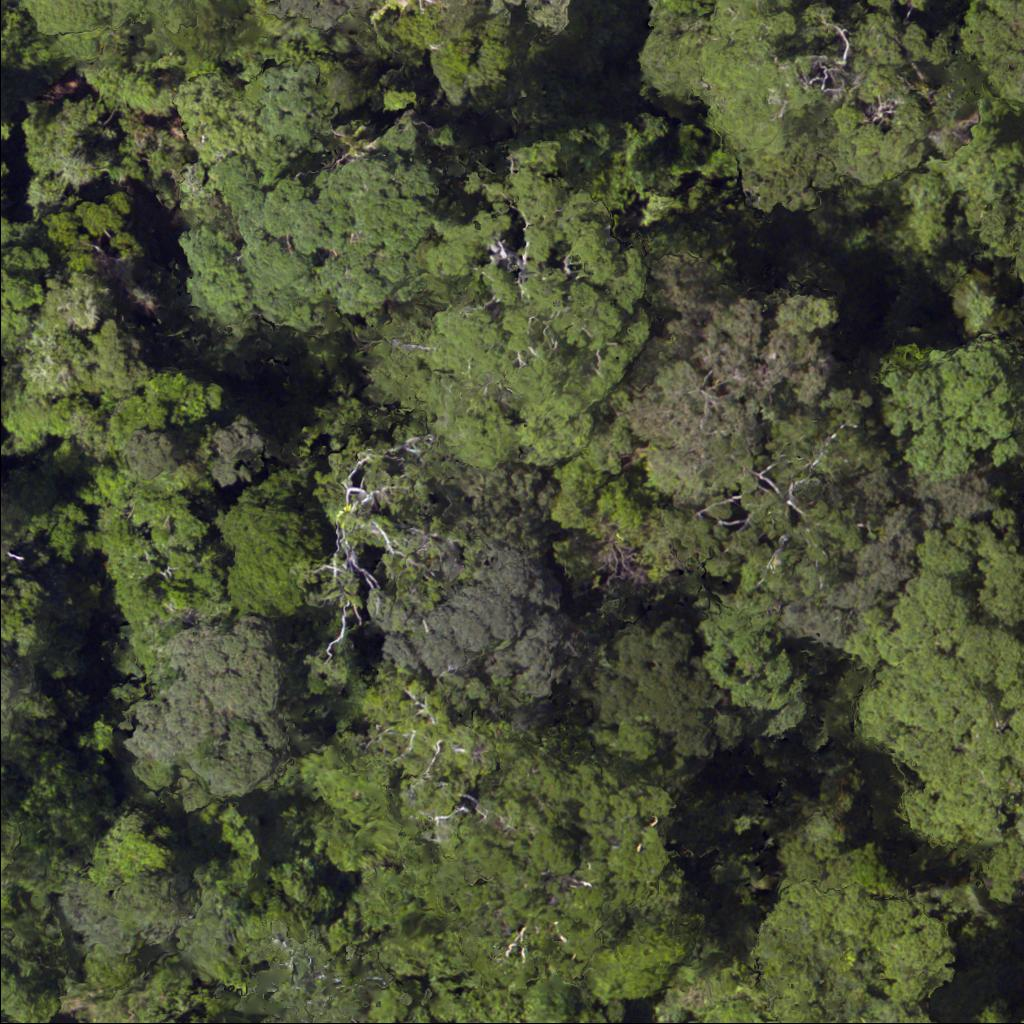crown: (435, 756, 676, 994), (854, 509, 1023, 843), (616, 253, 836, 506), (175, 120, 435, 332), (646, 0, 925, 184), (289, 428, 472, 696), (665, 386, 887, 598), (381, 537, 563, 708), (748, 883, 957, 1023), (340, 669, 500, 845), (137, 625, 276, 793), (84, 496, 224, 629), (597, 619, 722, 760), (893, 349, 1023, 470), (702, 599, 806, 738), (212, 492, 324, 615), (42, 189, 145, 273), (958, 0, 1023, 116), (88, 813, 170, 889), (16, 0, 199, 28), (418, 0, 564, 34), (210, 415, 265, 487), (123, 429, 176, 481), (0, 662, 26, 744), (268, 0, 374, 20), (0, 548, 23, 578), (0, 488, 3, 520)
